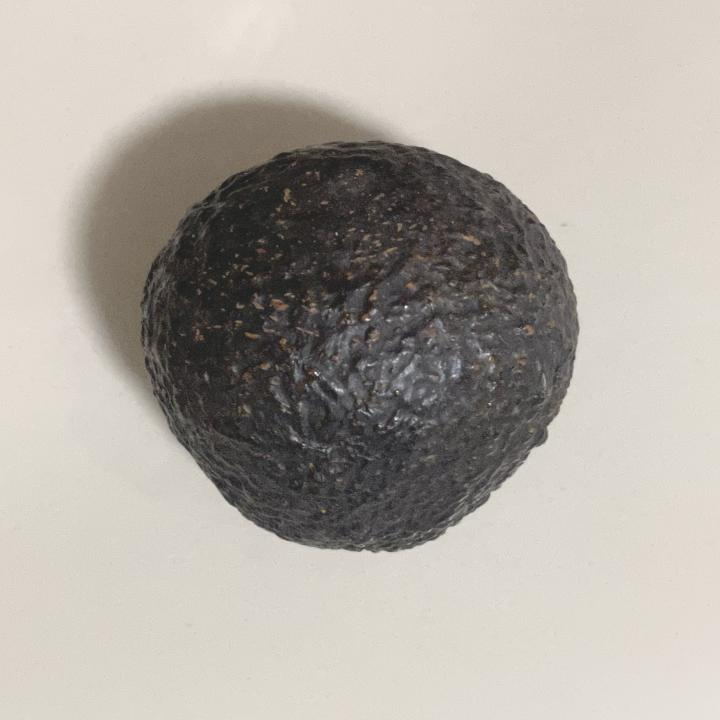Level2: (131, 136, 589, 562)
